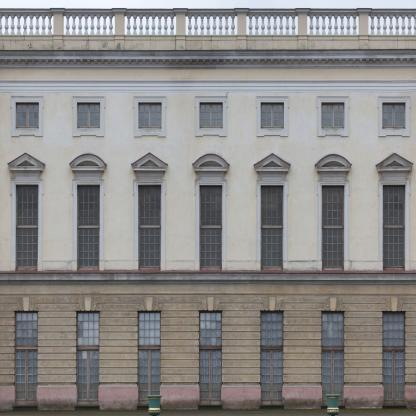Balcony: (0, 8, 416, 50)
Building Outline: (0, 8, 416, 411)
Cornice: (375, 152, 414, 172), (7, 152, 45, 172), (130, 152, 168, 172), (314, 153, 352, 172), (69, 153, 107, 172), (192, 153, 229, 172), (254, 153, 291, 172), (268, 296, 276, 311), (390, 297, 398, 311), (22, 297, 30, 311), (329, 297, 337, 311), (84, 297, 91, 311), (146, 297, 153, 311), (207, 297, 214, 311)
Facade: (1, 8, 416, 410)
Floor: (0, 177, 416, 271)
Floor Slab: (0, 50, 416, 63), (0, 271, 416, 283), (0, 165, 416, 177)
Ground Floor: (0, 283, 416, 411)
Molding: (0, 50, 416, 69), (0, 81, 416, 94), (0, 271, 416, 283)
Top Floor: (0, 63, 416, 165)
Window: (382, 311, 406, 400), (76, 311, 100, 400), (261, 310, 284, 400), (322, 311, 345, 401), (15, 185, 39, 271), (138, 311, 161, 400), (199, 311, 222, 400), (77, 185, 100, 271), (322, 185, 345, 271), (383, 185, 406, 270), (138, 185, 161, 270), (200, 185, 222, 271), (261, 185, 283, 271), (382, 103, 406, 129), (16, 102, 39, 128), (77, 102, 100, 128), (139, 102, 162, 128), (200, 102, 223, 128), (261, 103, 284, 129), (322, 102, 345, 128), (16, 311, 39, 336)
